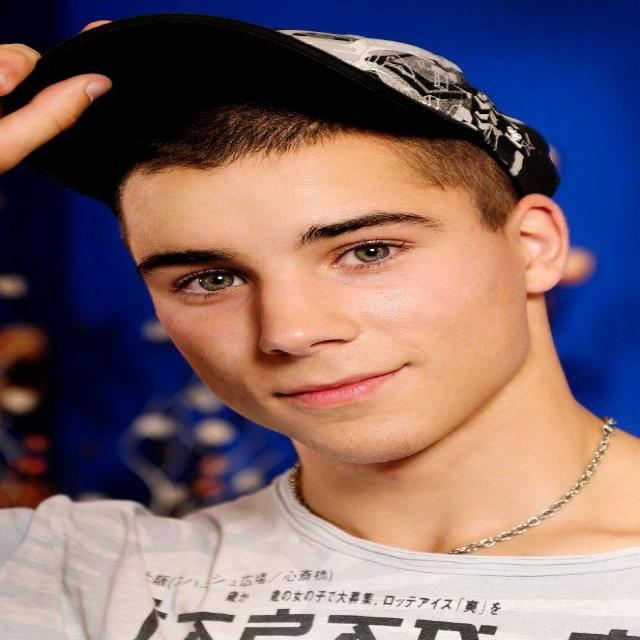earlobe: (523, 262, 558, 294)
eye: (329, 240, 408, 269), (177, 268, 247, 294)
nose: (259, 338, 366, 378)
wholeear: (508, 194, 568, 294)
